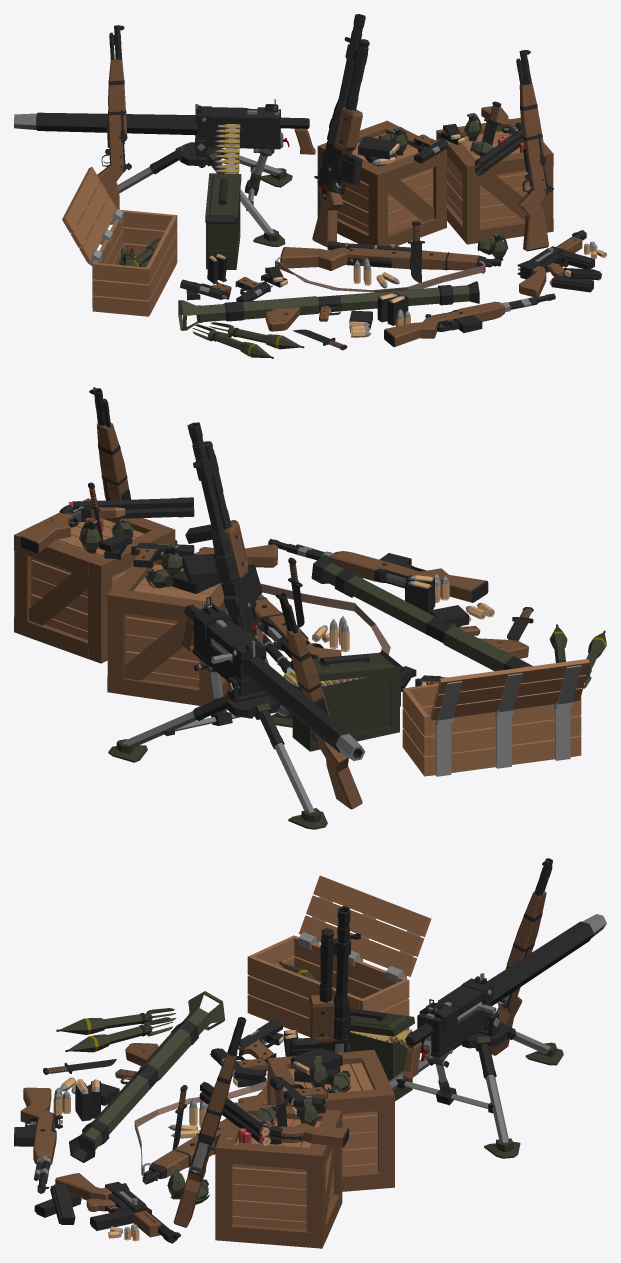
3 views of the same model, one above another, from view 1: azimuth 30°, elevation 25°; view 2: azimuth 150°, elevation 25°; view 3: azimuth 270°, elevation 25° (orthographic). The views are drawn at different scales.
Parts seen in each view (by area): view 1: 30Cal, Cylinder.010, Cube.008, Cube.000, HeavyRifle.001, Bazooka, Sniper, Rifle, Rifle.003, Carbine, Cube.005, SubMachineGun.001 (+11 smaller); view 2: 30Cal, Cylinder.010, Cube.000, Cube.008, Bazooka, HeavyRifle.001, Carbine, Rifle.003, Rifle, Rifle.002, Sniper, Rifle.001 (+5 smaller); view 3: 30Cal, Cylinder.010, Cube.000, Cube.008, Bazooka, HeavyRifle.001, Rifle, Carbine, Rifle.003, Sniper, Rifle.001, Rcoket.007 (+11 smaller).
Boxes of the visible parts, x1,y1,x2,y2 form: 30Cal: [14, 99, 315, 269]; Cylinder.010: [62, 167, 177, 316]; Cube.008: [317, 120, 446, 245]; Cube.000: [436, 117, 553, 244]; HeavyRifle.001: [312, 14, 369, 247]; Bazooka: [178, 281, 479, 331]; Sniper: [280, 241, 501, 270]; Rifle: [516, 50, 553, 251]; Rifle.003: [97, 25, 131, 224]; Carbine: [384, 293, 555, 347]; Cube.005: [275, 260, 485, 292]; SubMachineGun.001: [520, 246, 568, 279]; 30Cal: [108, 596, 404, 829]; Cylinder.010: [402, 659, 589, 776]; Cube.000: [14, 498, 175, 663]; Cube.008: [107, 556, 228, 705]; Bazooka: [311, 554, 532, 671]; HeavyRifle.001: [187, 422, 269, 664]; Carbine: [268, 538, 488, 602]; Rifle.003: [275, 592, 362, 809]; Rifle: [89, 387, 130, 500]; Rifle.002: [72, 497, 194, 521]; Sniper: [254, 594, 341, 673]; Rifle.001: [20, 504, 83, 553]; 30Cal: [308, 914, 606, 1158]; Cylinder.010: [247, 875, 431, 1036]; Cube.000: [215, 1102, 342, 1248]; Cube.008: [267, 1049, 394, 1191]; Bazooka: [69, 991, 224, 1162]; HeavyRifle.001: [288, 906, 360, 1056]; Rifle: [173, 1017, 246, 1227]; Carbine: [14, 1087, 62, 1193]; Rifle.003: [490, 858, 552, 1055]; Sniper: [142, 1086, 267, 1184]; Rifle.001: [263, 1123, 349, 1147]; Rcoket.007: [56, 1008, 176, 1034].
Size of the model in its own units: 1778 by 799 by 1666.
